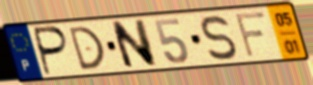5: (151, 16, 190, 66)
D: (66, 24, 108, 73)
F: (233, 10, 269, 60)
N: (108, 18, 159, 72)
P: (33, 25, 72, 78)
S: (200, 13, 239, 62)
